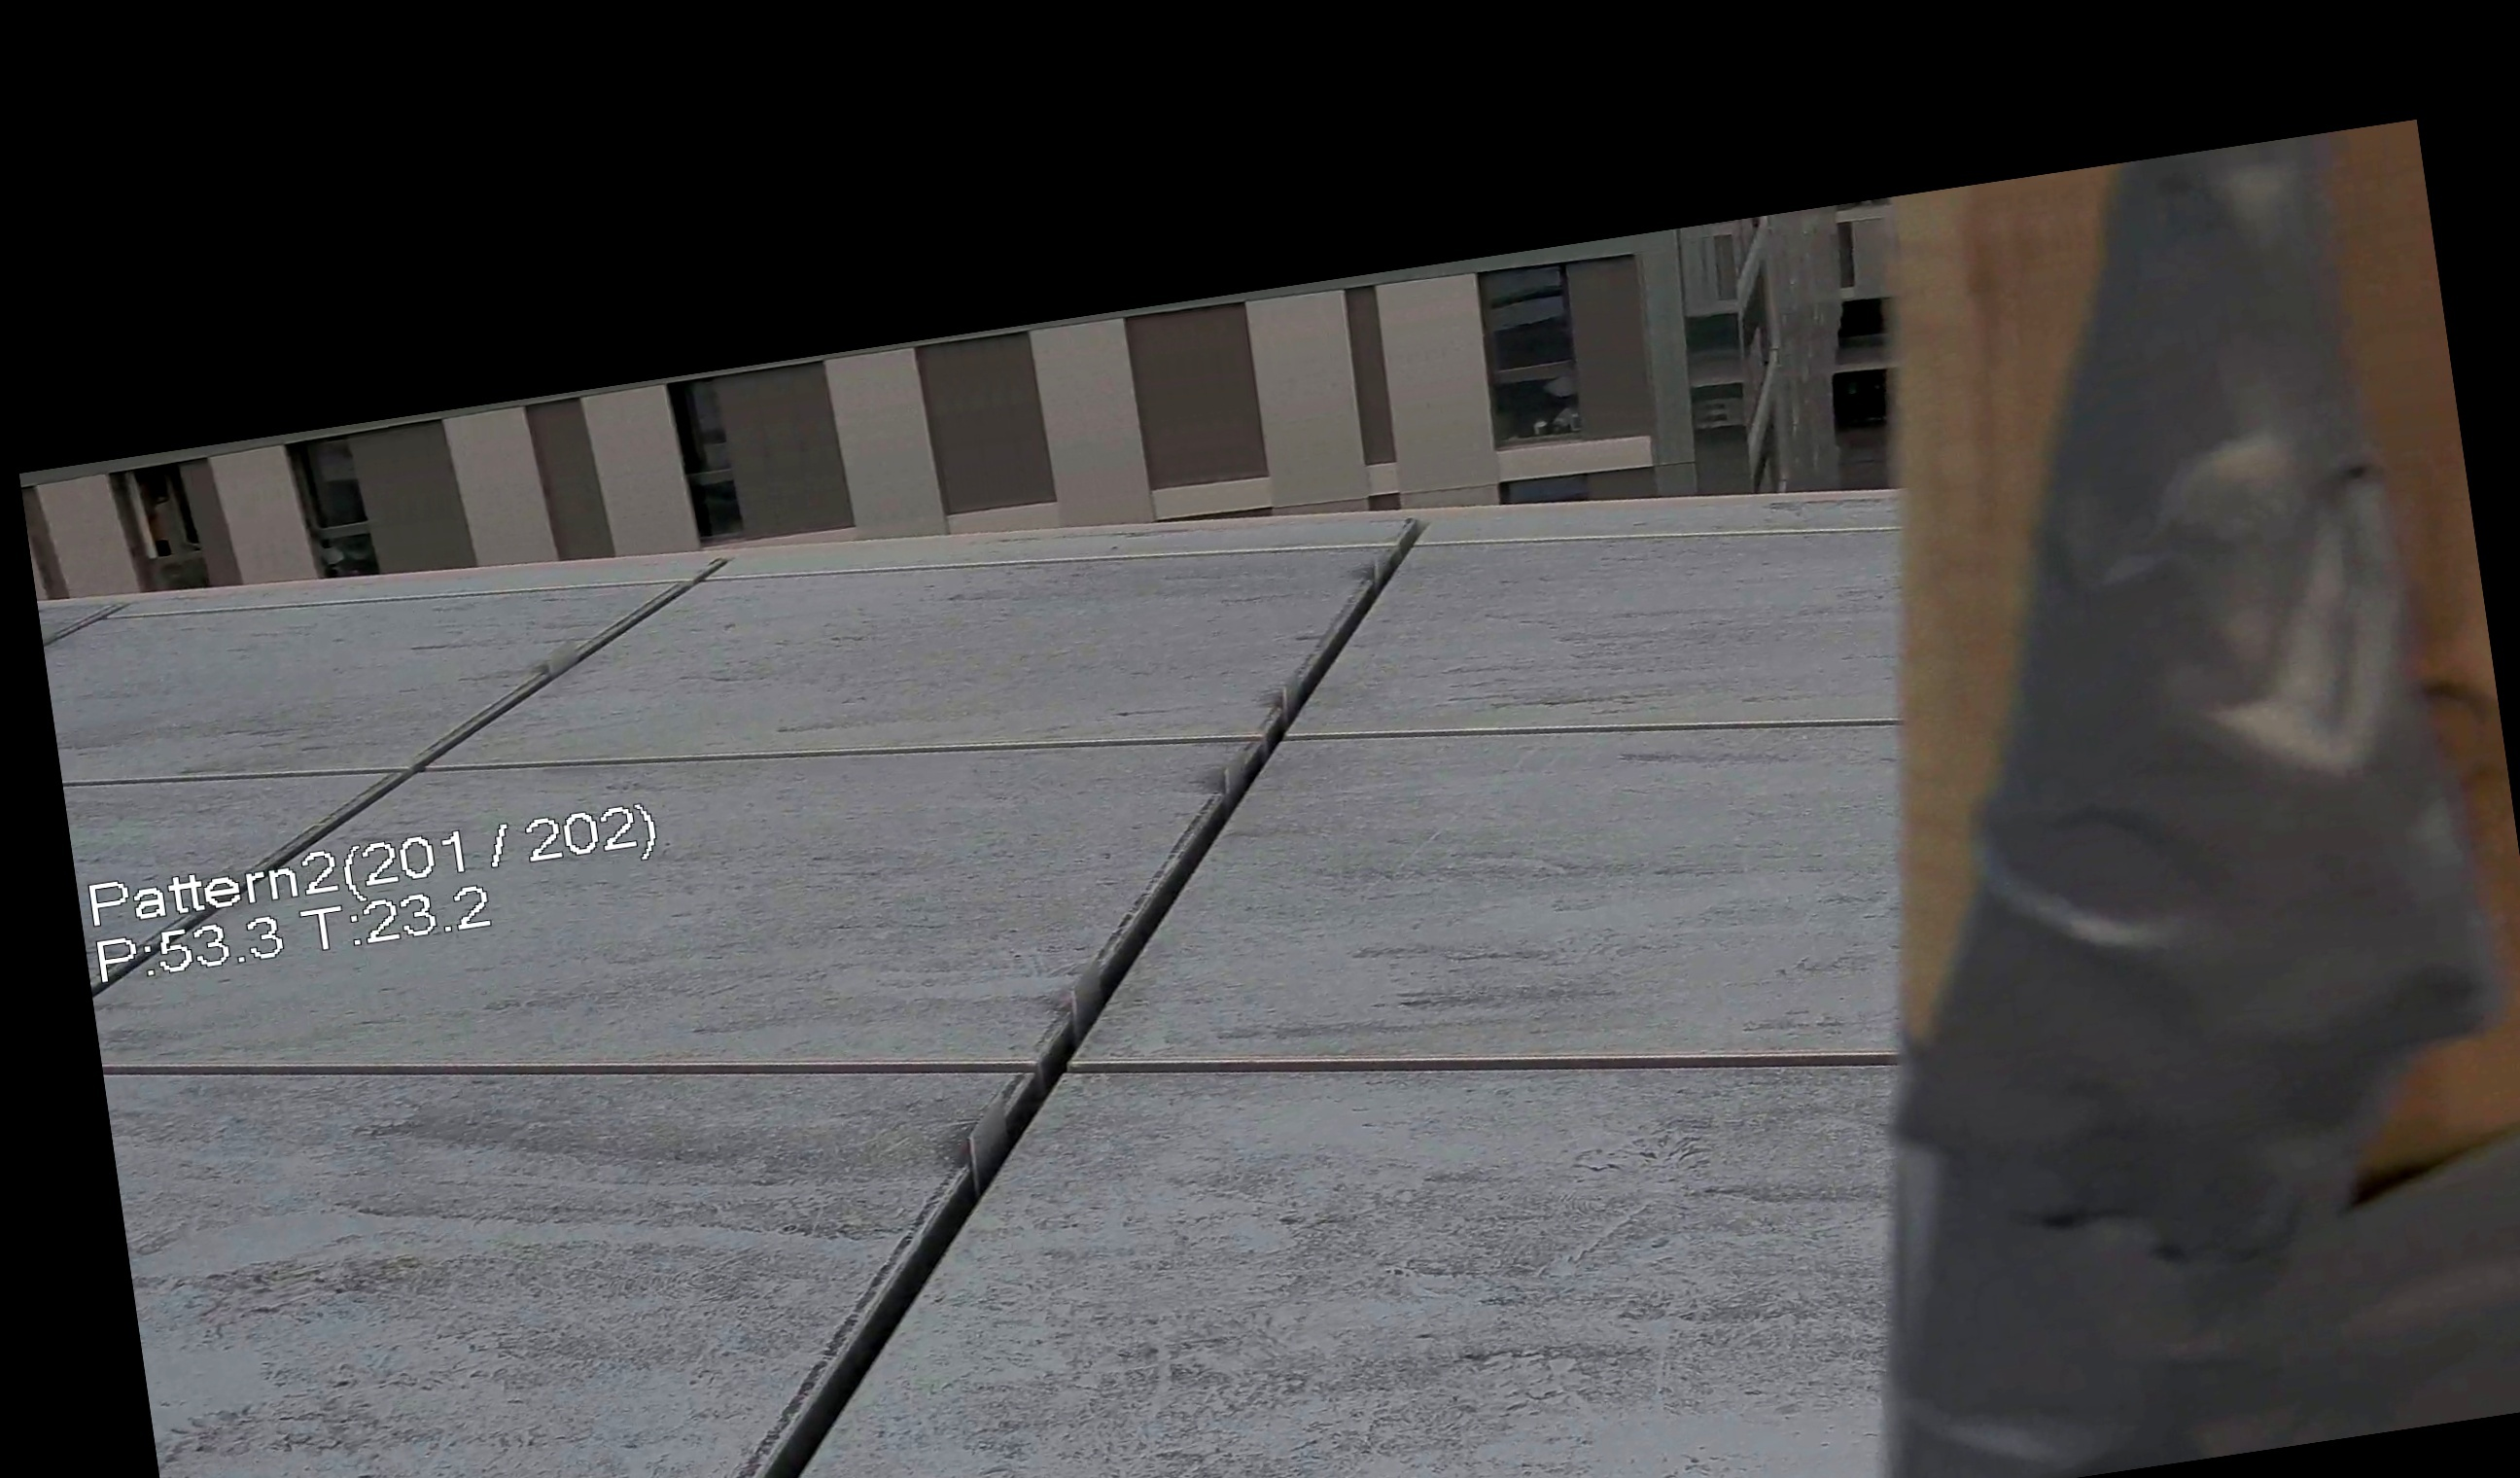Other: (1729, 118, 2520, 1478)
